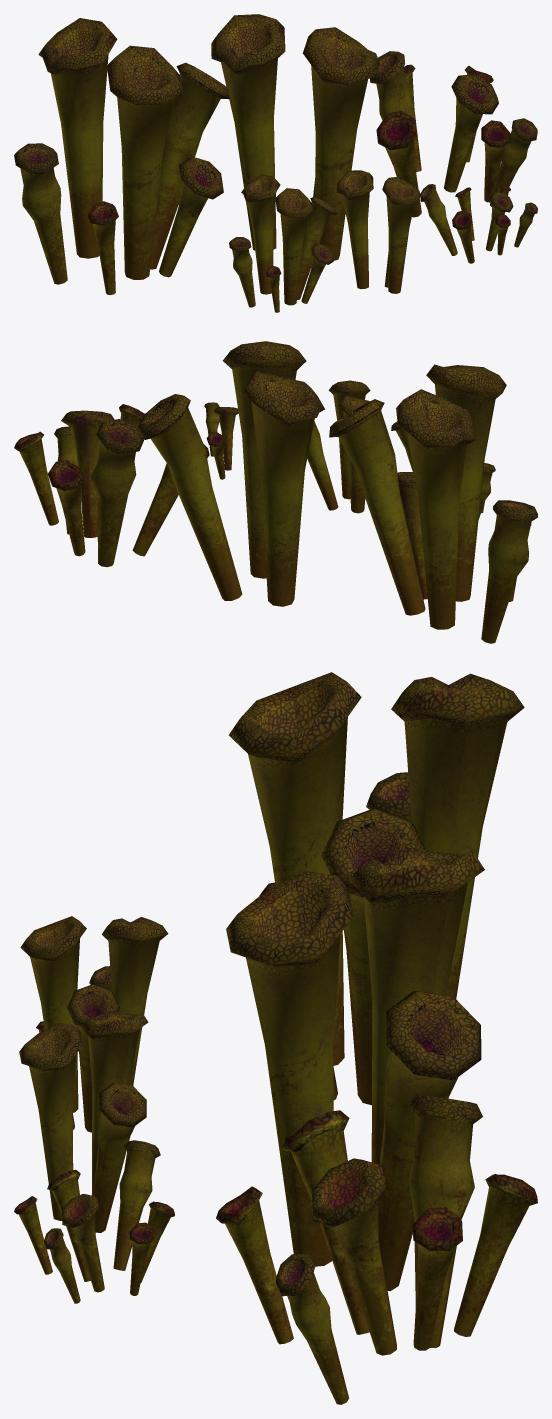
The model's file is horn trumpeters.fbx.
3 views of the same model, one above another, from view 1: azimuth 30°, elevation 25°; view 2: azimuth 150°, elevation 25°; view 3: azimuth 270°, elevation 25° (orthographic). The views are drawn at different scales.
Parts seen in each view (by area): view 1: smd_mesh.003, smd_mesh.004, smd_mesh.005, smd_mesh, smd_mesh.001, smd_mesh.002; view 2: smd_mesh.003, smd_mesh.004, smd_mesh.005, smd_mesh.001, smd_mesh.002, smd_mesh; view 3: smd_mesh.004, smd_mesh.003, smd_mesh.005, smd_mesh.001, smd_mesh, smd_mesh.002.
Boxes of the visible parts, x1,y1,x2,y2 form: smd_mesh.003: (14, 18, 229, 294); smd_mesh.004: (211, 14, 379, 260); smd_mesh.005: (370, 51, 537, 217); smd_mesh: (229, 174, 336, 312); smd_mesh.001: (336, 170, 420, 293); smd_mesh.002: (420, 183, 537, 263); smd_mesh.003: (329, 364, 537, 643); smd_mesh.004: (138, 341, 324, 606); smd_mesh.005: (14, 404, 209, 567); smd_mesh.001: (307, 380, 370, 513); smd_mesh.002: (204, 402, 238, 479); smd_mesh: (391, 421, 495, 520); smd_mesh.004: (226, 847, 484, 1291); smd_mesh.003: (228, 672, 524, 1105); smd_mesh.005: (216, 1095, 537, 1404); smd_mesh.001: (19, 1011, 148, 1232); smd_mesh: (20, 916, 168, 1132); smd_mesh.002: (14, 1140, 174, 1303).
Size of the model in its own units: 16.32 by 8.26 by 8.92.
